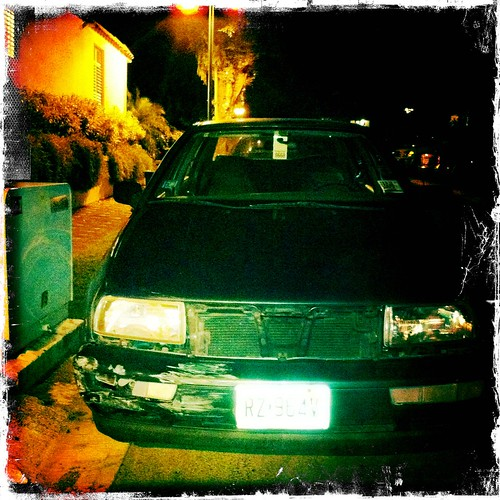building: (1, 1, 130, 113)
car: (87, 118, 464, 440)
